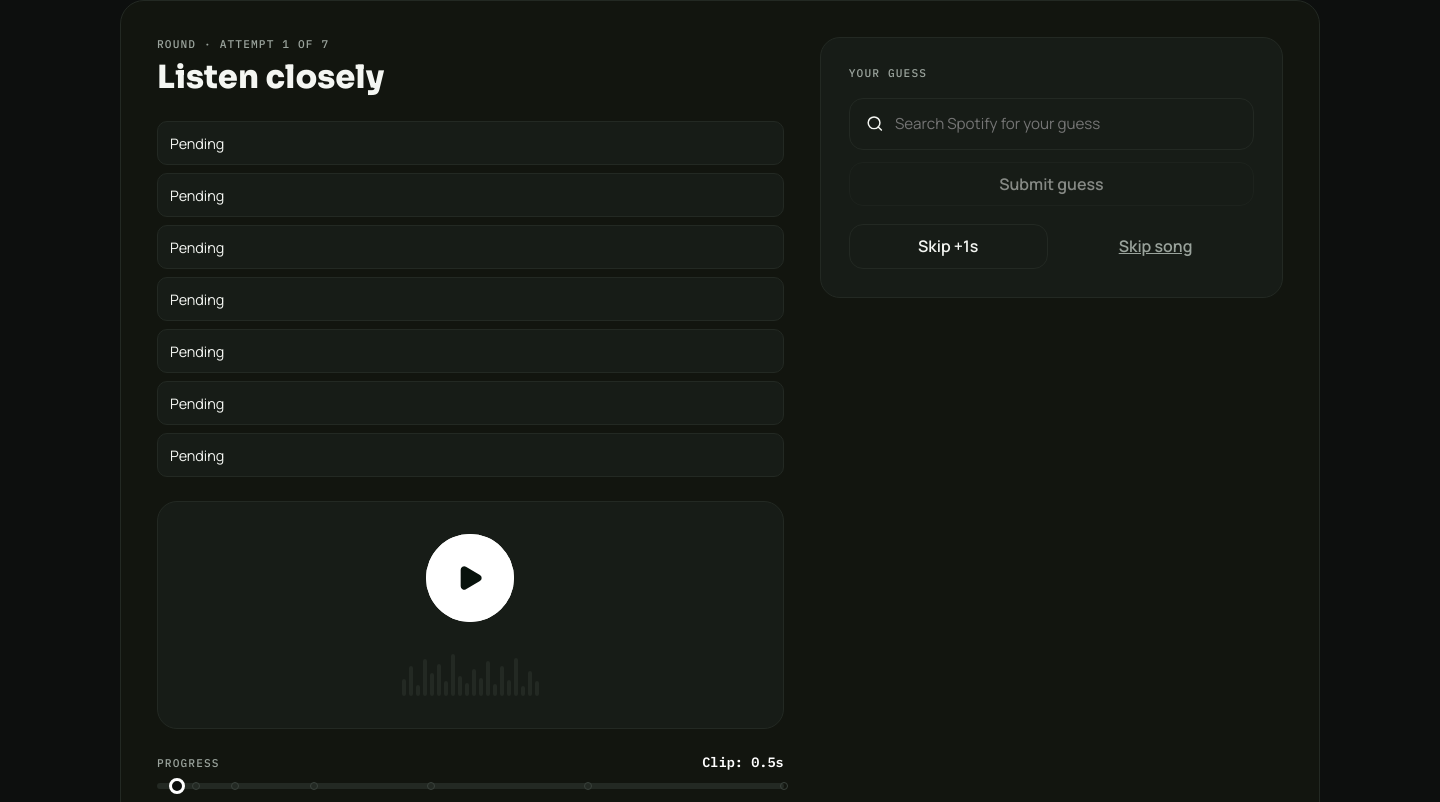
it: GameScreen interactions › disables Submit immediately when the selected guess text is edited
Step 1. Type "Answer Song" into the dropdown labelled "guess" → (1065, 124), box [893,112,1237,135]
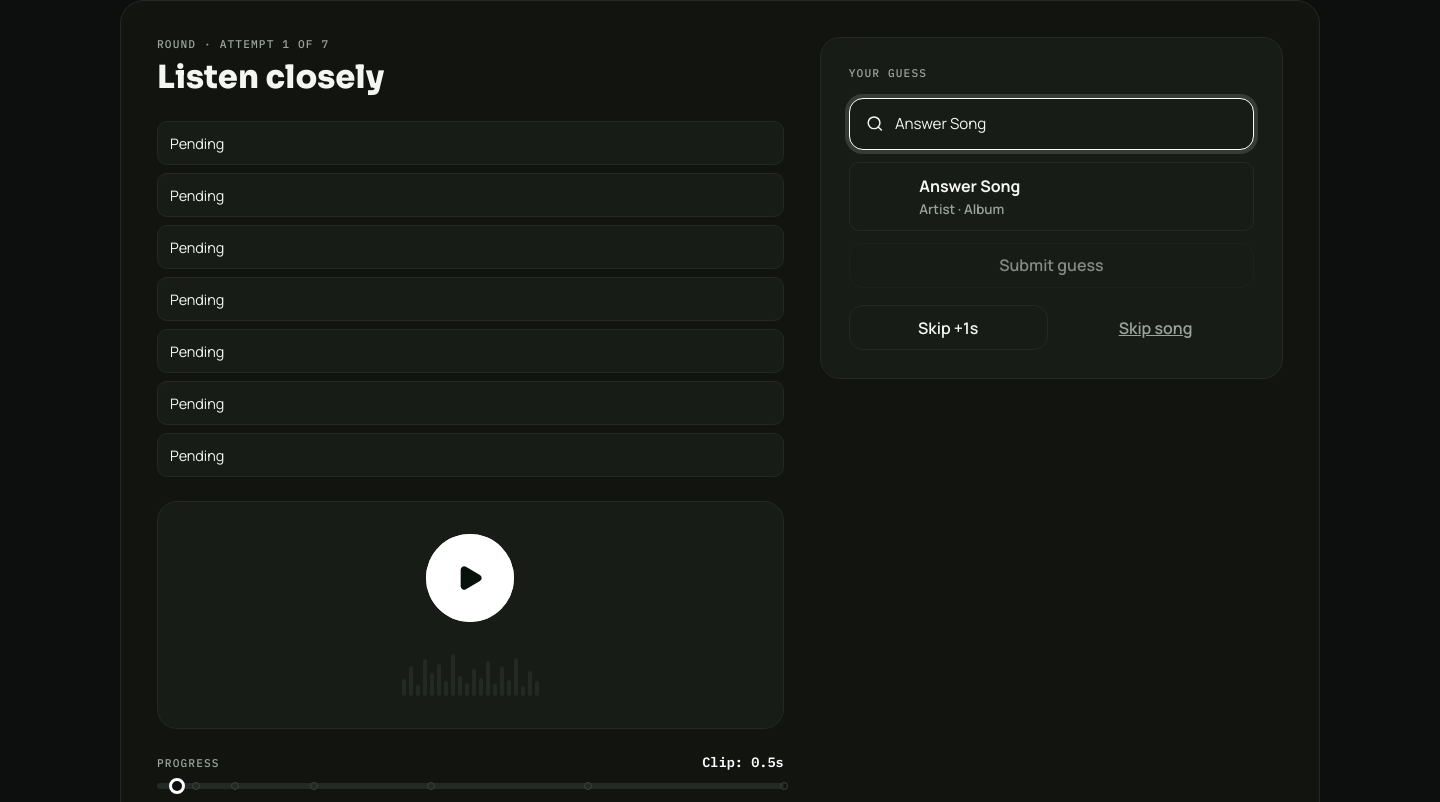
Step 2. Click the option "Answer Song Artist · Album" → (883, 196), box [849,162,1254,231]
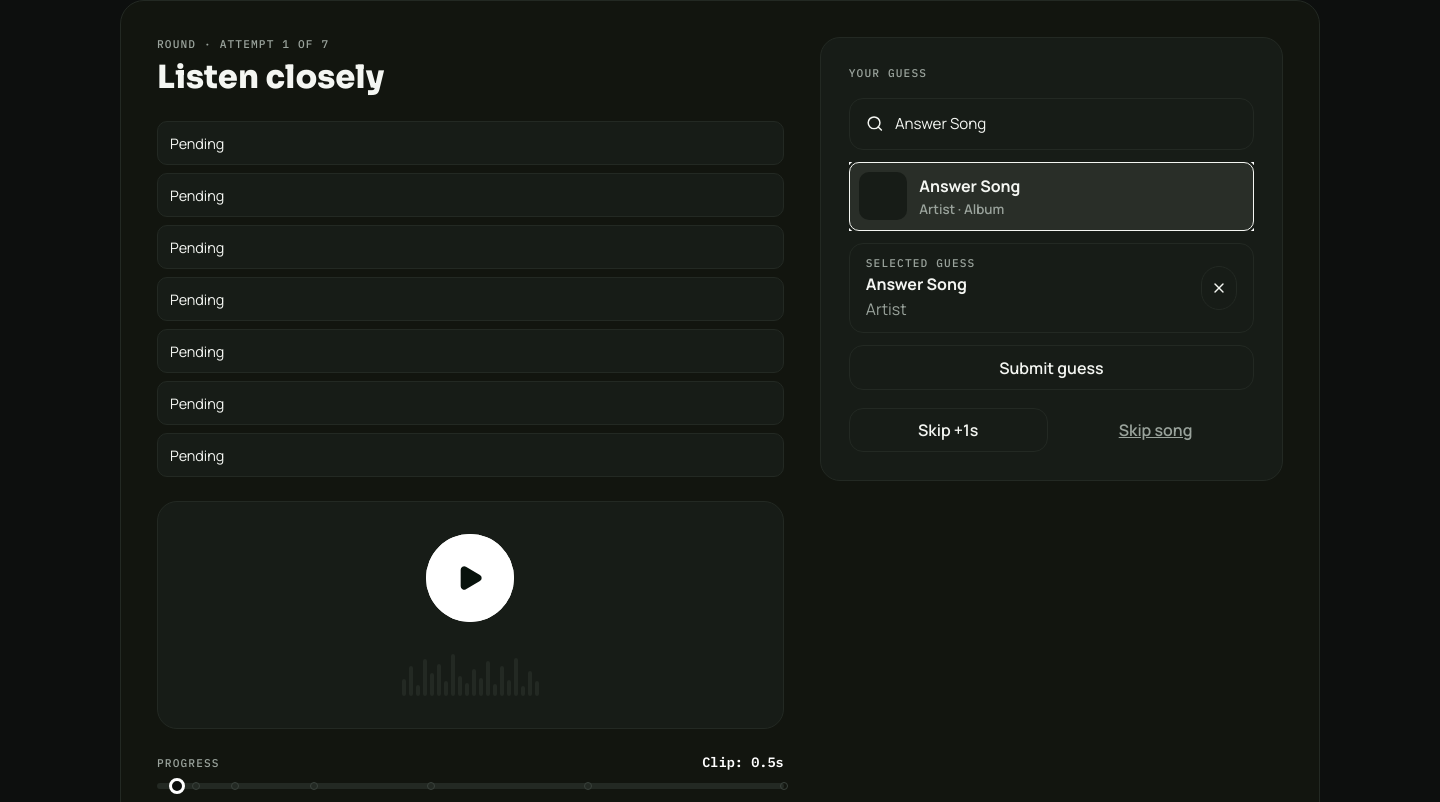
Expected: the button "Submit guess" is enabled, [849,345,1254,390]
Step 3. Type " remix" into the dropdown named "guess" → (1065, 124), box [893,112,1237,135]
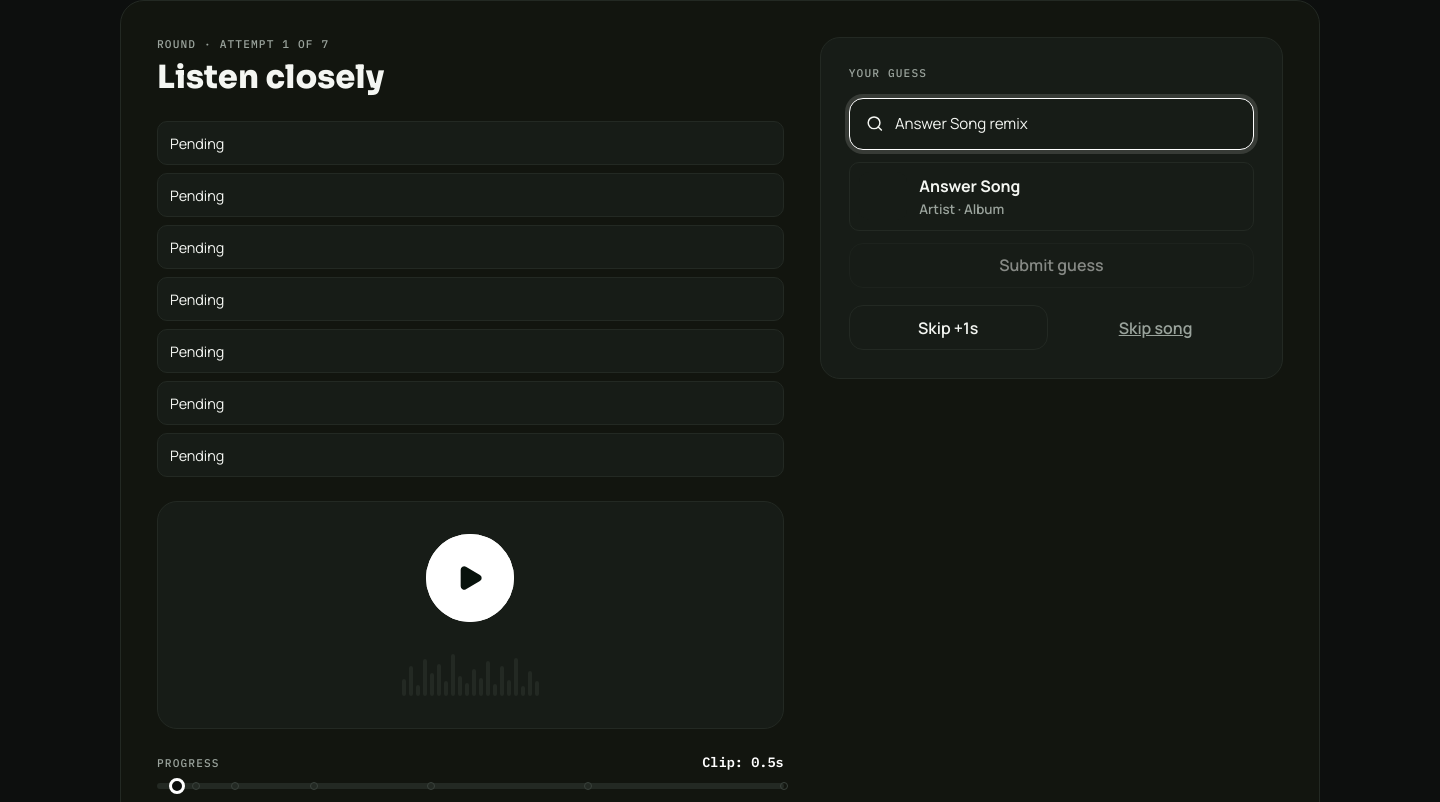
Expected: the button "Submit guess" is disabled, [849,243,1254,288]
